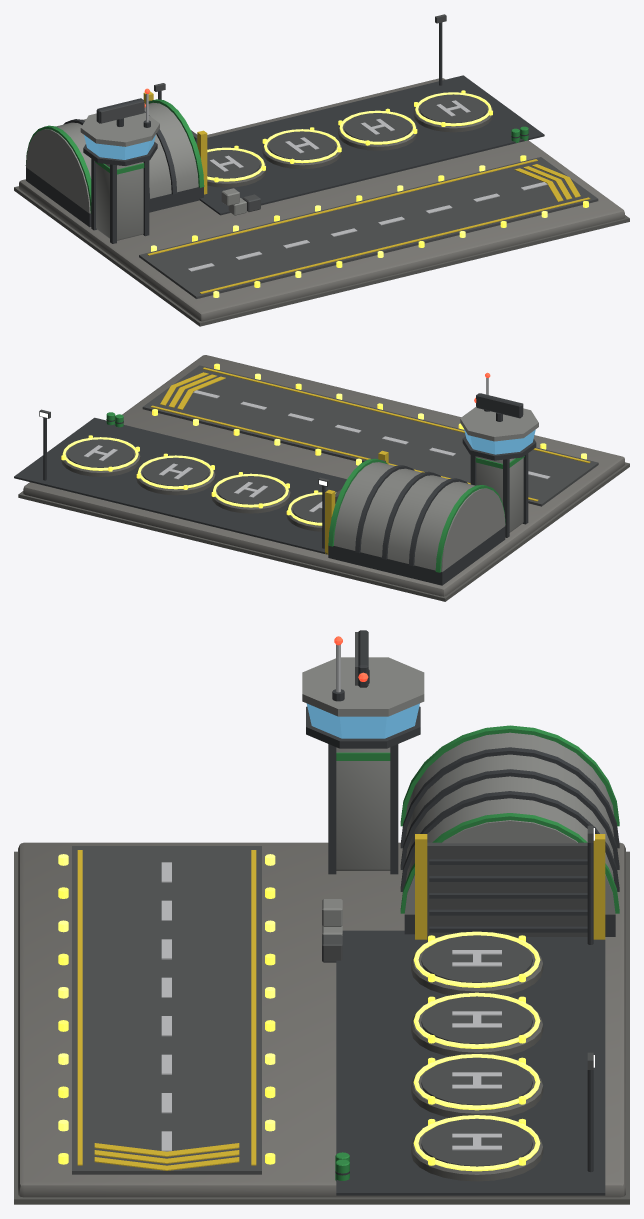
Rendered from airfield.glb.
3 views of the same model, one above another, from view 1: azimuth 30°, elevation 25°; view 2: azimuth 150°, elevation 25°; view 3: azimuth 270°, elevation 25° (orthographic). The views are drawn at different scales.
Visible parts, largest first — view 1: Airfield_Foundation, Airfield_Walls, Airfield_Details, Airfield_Frame, Airfield_spin; view 2: Airfield_Foundation, Airfield_Walls, Airfield_Details, Airfield_Frame, Airfield_spin; view 3: Airfield_Foundation, Airfield_Walls, Airfield_Details, Airfield_Frame, Airfield_spin.
Part boxes in pixels (left/top/right/bottom): Airfield_Foundation: left=14, top=75, right=629, bottom=326; Airfield_Walls: left=26, top=100, right=198, bottom=240; Airfield_Details: left=95, top=14, right=590, bottom=297; Airfield_Frame: left=25, top=99, right=204, bottom=243; Airfield_spin: left=96, top=98, right=145, bottom=123; Airfield_Foundation: left=14, top=355, right=629, bottom=601; Airfield_Walls: left=334, top=407, right=538, bottom=571; Airfield_Details: left=39, top=363, right=590, bottom=554; Airfield_Frame: left=328, top=436, right=536, bottom=585; Airfield_spin: left=474, top=393, right=523, bottom=418; Airfield_Foundation: left=14, top=842, right=629, bottom=1204; Airfield_Walls: left=302, top=657, right=615, bottom=936; Airfield_Details: left=58, top=636, right=605, bottom=1180; Airfield_Frame: left=306, top=706, right=619, bottom=936; Airfield_spin: left=355, top=630, right=368, bottom=687.
Bounding box in the file's own units: 4.15 × 1.37 × 2.98.
